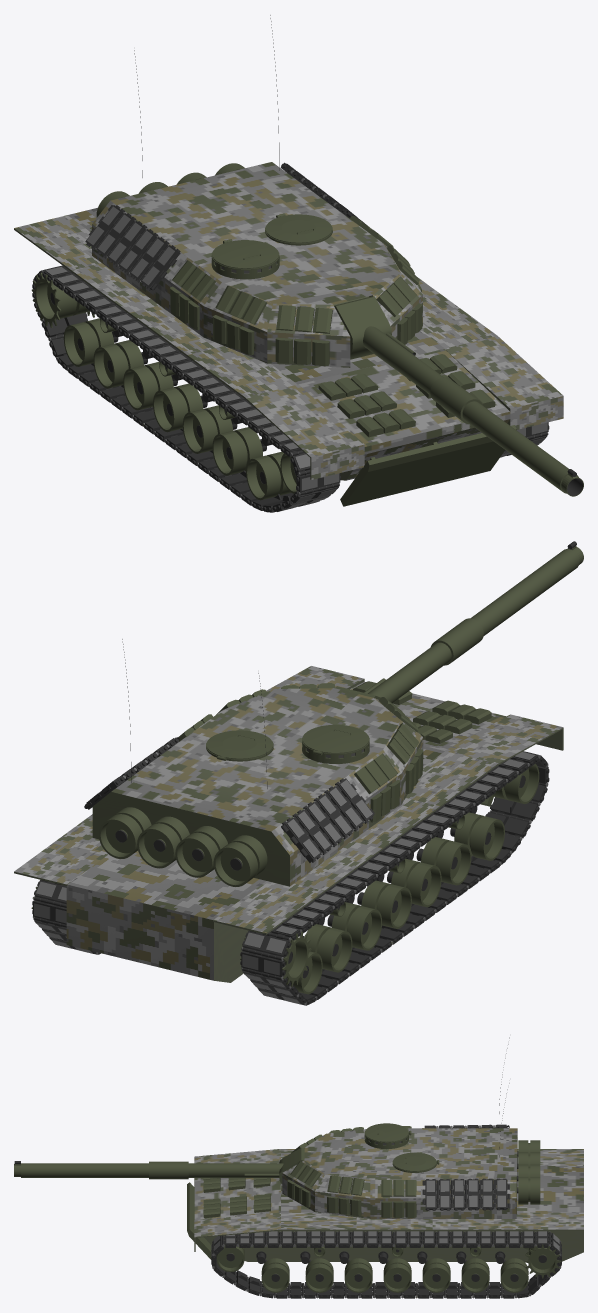
File: Tank.fbx
3 renders of one model, top to bottom at view 1: azimuth 30°, elevation 25°; view 2: azimuth 150°, elevation 25°; view 3: azimuth 270°, elevation 25°, orthographic. The views are drawn at different scales.
Parts seen in each view (by area): view 1: Tower, Tank Track Armor .001, Body, Tank Track Armor, Gun, Cube.107, Gun mechanism, Road Wheel.011, Road Wheel.013, Road Wheel.019, Cover.001, Cover (+13 smaller); view 2: Tower, Body, Tank Track Armor .001, Gun, Tank Track Armor, Road Wheel.029, Road Wheel.031, Road Wheel.030, Road Wheel.032, Road Wheel.010, Road Wheel.011, Road Wheel.013 (+20 smaller); view 3: Tower, Body, Tank Track Armor, Gun, Tank Track Armor .001, Road Wheel.004, Road Wheel.003, Road Wheel.005, Road Wheel.006, Road Wheel.002, Road Wheel.009, Road Wheel.001 (+14 smaller).
Boxes of the visible parts, <box> form: Tower: <box>92,162,422,367</box>; Tank Track Armor .001: <box>14,215,364,479</box>; Body: <box>67,207,510,480</box>; Tank Track Armor: <box>417,277,563,429</box>; Gun: <box>363,326,583,496</box>; Cube.107: <box>340,425,516,506</box>; Gun mechanism: <box>334,296,391,359</box>; Road Wheel.011: <box>212,427,262,475</box>; Road Wheel.013: <box>153,383,203,432</box>; Road Wheel.019: <box>93,340,143,388</box>; Cover.001: <box>265,214,332,243</box>; Cover: <box>212,239,278,268</box>; Tower: <box>92,688,423,886</box>; Body: <box>66,681,506,982</box>; Tank Track Armor .001: <box>213,714,563,934</box>; Gun: <box>368,546,583,702</box>; Tank Track Armor: <box>14,666,364,885</box>; Road Wheel.029: <box>213,835,267,886</box>; Road Wheel.031: <box>137,816,189,868</box>; Road Wheel.030: <box>175,826,227,877</box>; Road Wheel.032: <box>99,807,151,858</box>; Road Wheel.010: <box>454,812,504,860</box>; Road Wheel.011: <box>421,837,471,885</box>; Road Wheel.013: <box>361,880,411,928</box>; Tower: <box>282,1128,517,1218</box>; Body: <box>194,1166,583,1261</box>; Tank Track Armor: <box>194,1212,583,1251</box>; Gun: <box>14,1161,283,1179</box>; Tank Track Armor .001: <box>194,1149,583,1187</box>; Road Wheel.004: <box>344,1258,372,1292</box>; Road Wheel.003: <box>383,1258,411,1292</box>; Road Wheel.005: <box>305,1258,333,1292</box>; Road Wheel.006: <box>422,1258,450,1292</box>; Road Wheel.002: <box>461,1258,489,1292</box>; Road Wheel.009: <box>500,1258,528,1292</box>; Road Wheel.001: <box>261,1258,289,1292</box>.
Size of the model in its own units: 343 by 406 by 1024.
